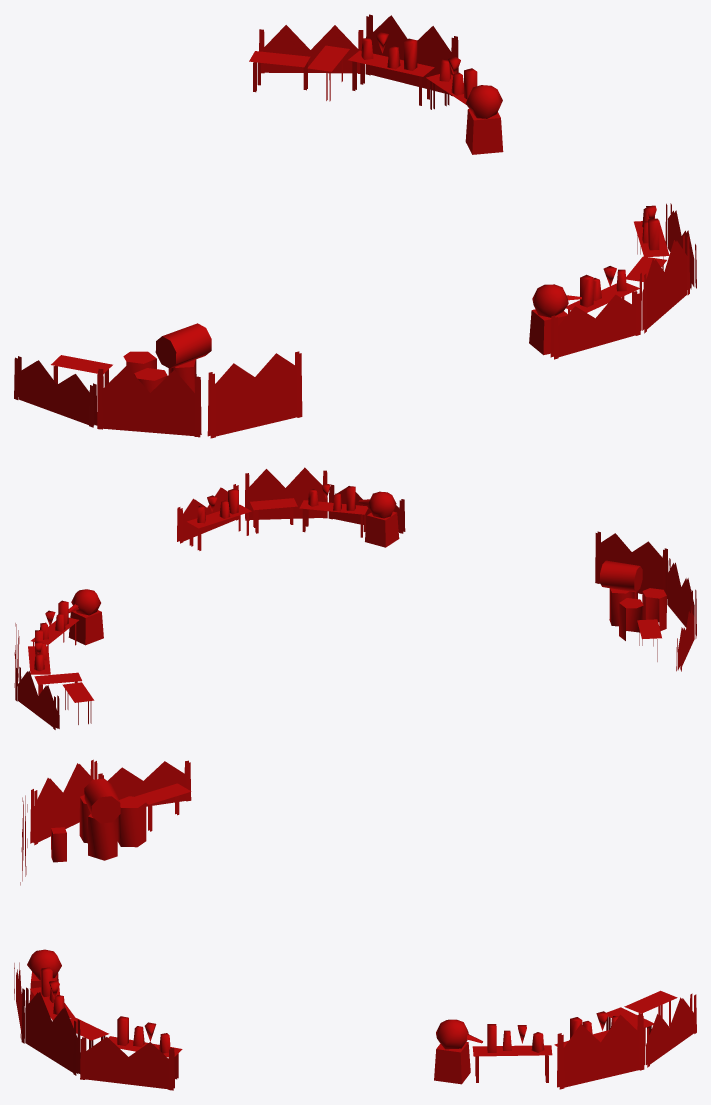
The model's file is s_emergency_station2_lod0.glb.
3 renders of one model, top to bottom at view 1: azimuth 30°, elevation 25°; view 2: azimuth 150°, elevation 25°; view 3: azimuth 270°, elevation 25°, orthographic. The views are drawn at different scales.
Parts seen in each view (by area): view 1: MODEL_s_alchemists_tower_lod0; view 2: MODEL_s_alchemists_tower_lod0; view 3: MODEL_s_alchemists_tower_lod0.
Boxes of the visible parts, x1,y1,x2,y2 form: MODEL_s_alchemists_tower_lod0: (14, 14, 696, 438); MODEL_s_alchemists_tower_lod0: (14, 467, 696, 729); MODEL_s_alchemists_tower_lod0: (14, 759, 696, 1090).
Size of the model in its own units: 5.89 by 0.6381 by 5.81.
